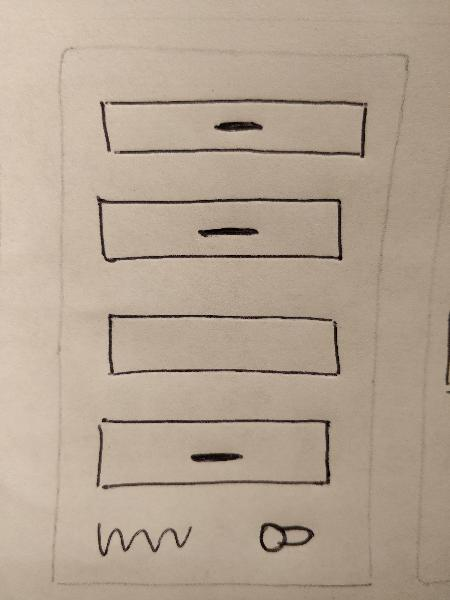button: (94, 91, 374, 174), (90, 411, 336, 503), (88, 192, 352, 271)
switch: (252, 513, 323, 561)
text: (90, 516, 198, 566)
text_input: (93, 304, 352, 390)
